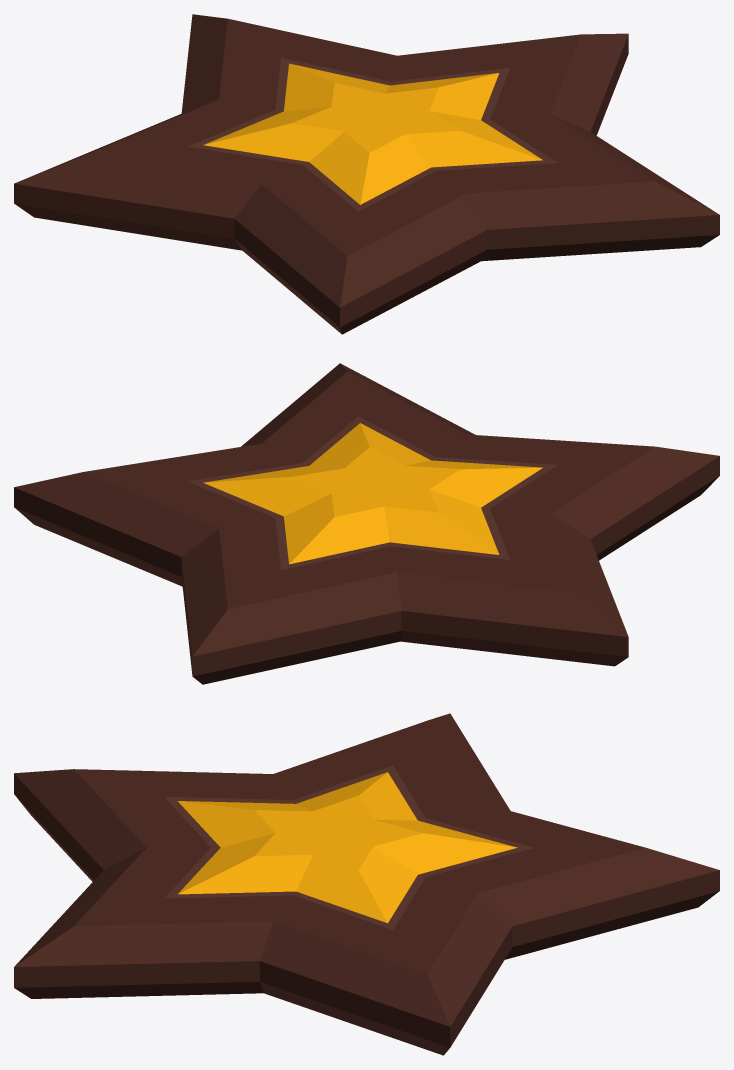
Rendered from Star.fbx.
3 views of the same model, one above another, from view 1: azimuth 30°, elevation 25°; view 2: azimuth 150°, elevation 25°; view 3: azimuth 270°, elevation 25° (orthographic). The views are drawn at different scales.
Visible parts, largest first — view 1: Cube.003; view 2: Cube.003; view 3: Cube.003.
Boxes of the visible parts, x1,y1,x2,y2 form: Cube.003: (14, 14, 719, 334); Cube.003: (14, 363, 719, 684); Cube.003: (14, 713, 719, 1055).
Bounding box in the file's own units: 137 × 15.13 × 130.
Materials: 1 (1 with a texture image).
